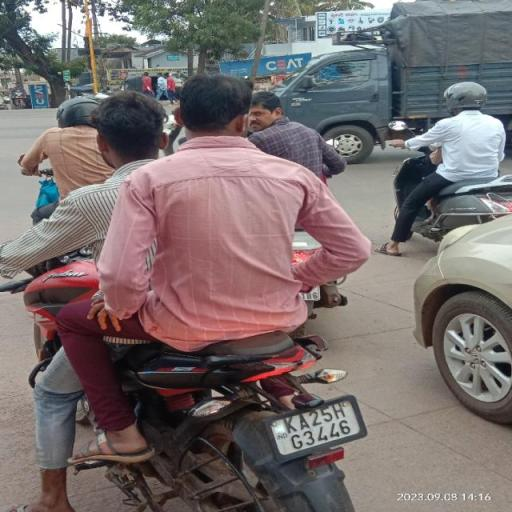bike: (4, 66, 427, 512)
numberplate: (268, 388, 368, 459)
withouthelmet: (88, 87, 164, 162), (181, 74, 248, 133)
